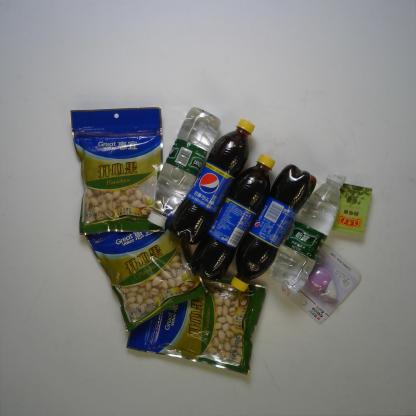Candy: (331, 177, 375, 239)
Dried Fruit: (122, 269, 270, 378), (85, 207, 208, 335), (66, 102, 172, 236)
Drink: (231, 158, 319, 296), (164, 116, 256, 247), (190, 148, 276, 282), (268, 167, 349, 291), (145, 106, 225, 228)
Stationery: (282, 240, 366, 323)
